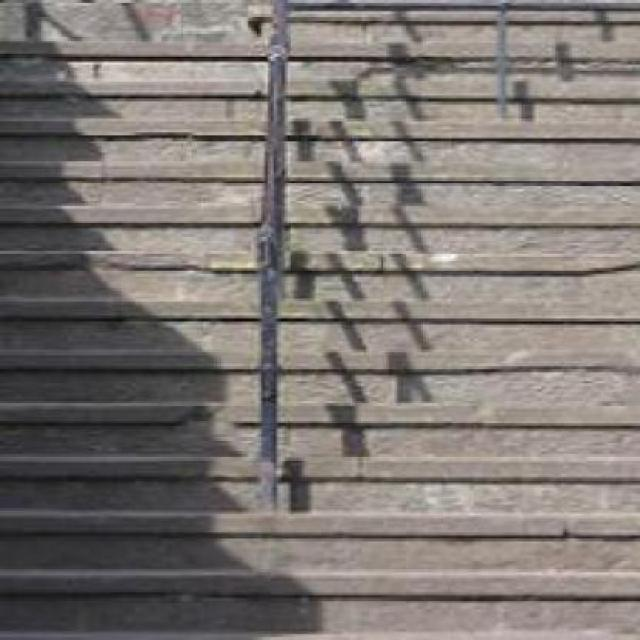stair: (20, 34, 612, 477)
